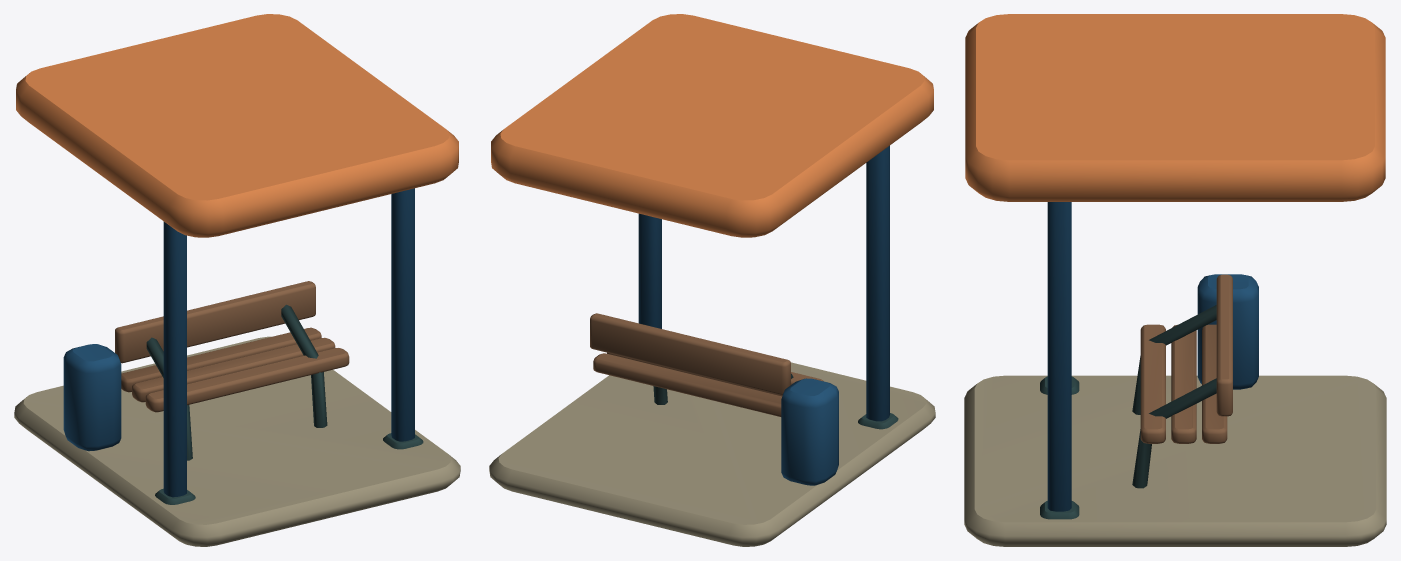
The model's file is metro_truck_park_2.glb.
The picture shows the model from 3 angles, left to right: view 1: azimuth 30°, elevation 25°; view 2: azimuth 150°, elevation 25°; view 3: azimuth 270°, elevation 25°; orthographic projection. The views are drawn at different scales.
Visible parts, largest first — view 1: TruckPark2; view 2: TruckPark2; view 3: TruckPark2.
Boxes of the visible parts, left/top/right/bottom form: TruckPark2: left=14, top=14, right=460, bottom=546; TruckPark2: left=489, top=14, right=935, bottom=546; TruckPark2: left=964, top=14, right=1386, bottom=546.
Size of the model in its own units: 2.16 by 2.51 by 2.48.
